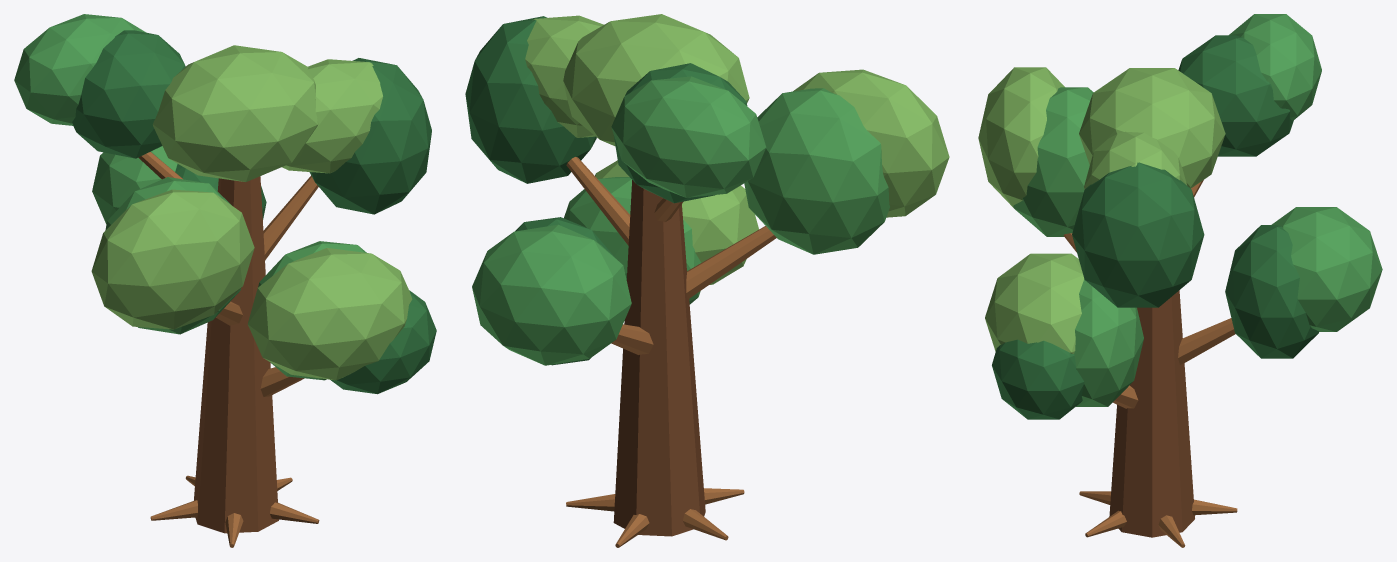
The model's file is tree_e.glb.
The picture shows the model from 3 angles, left to right: view 1: azimuth 30°, elevation 25°; view 2: azimuth 150°, elevation 25°; view 3: azimuth 270°, elevation 25°; orthographic projection. The views are drawn at different scales.
Parts seen in each view (by area): view 1: TREE_E; view 2: TREE_E; view 3: TREE_E.
Boxes of the visible parts, x1,y1,x2,y2 form: TREE_E: [14, 14, 436, 547]; TREE_E: [465, 14, 949, 547]; TREE_E: [978, 14, 1382, 547].
Bounding box in the file's own units: 4.71 × 5.65 × 4.52.
